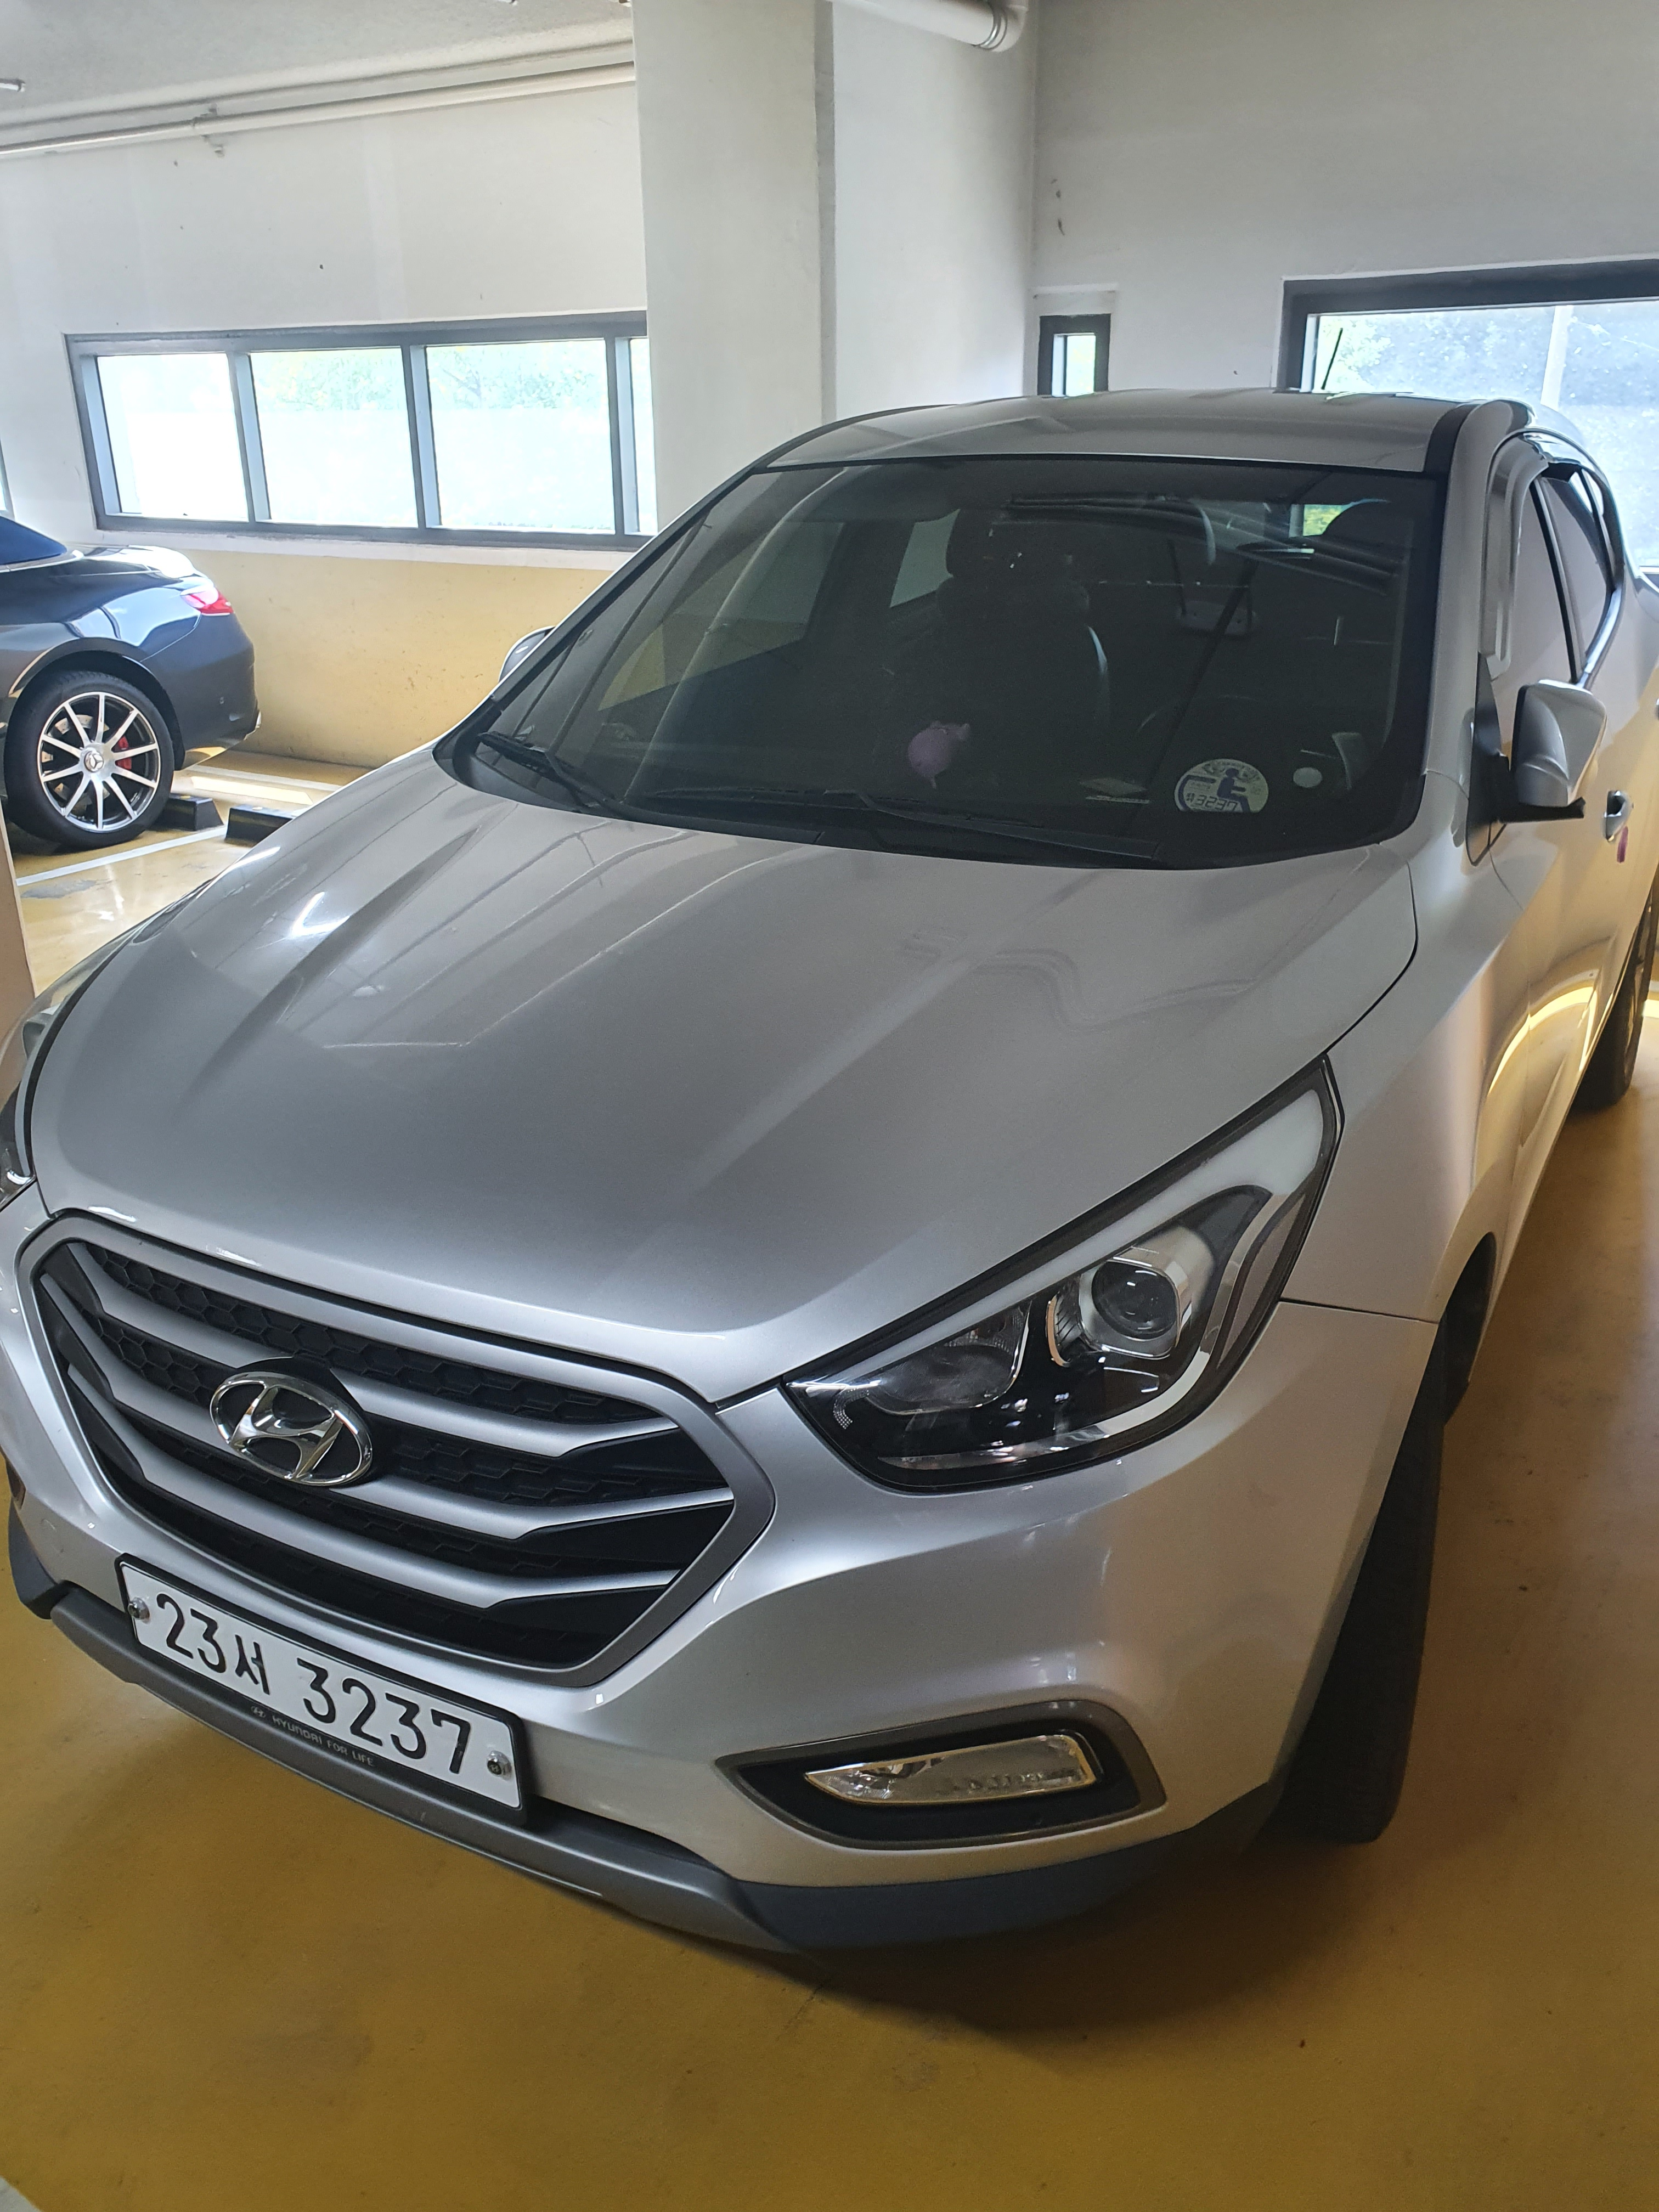disabled_parking: (1175, 751, 1270, 815)
